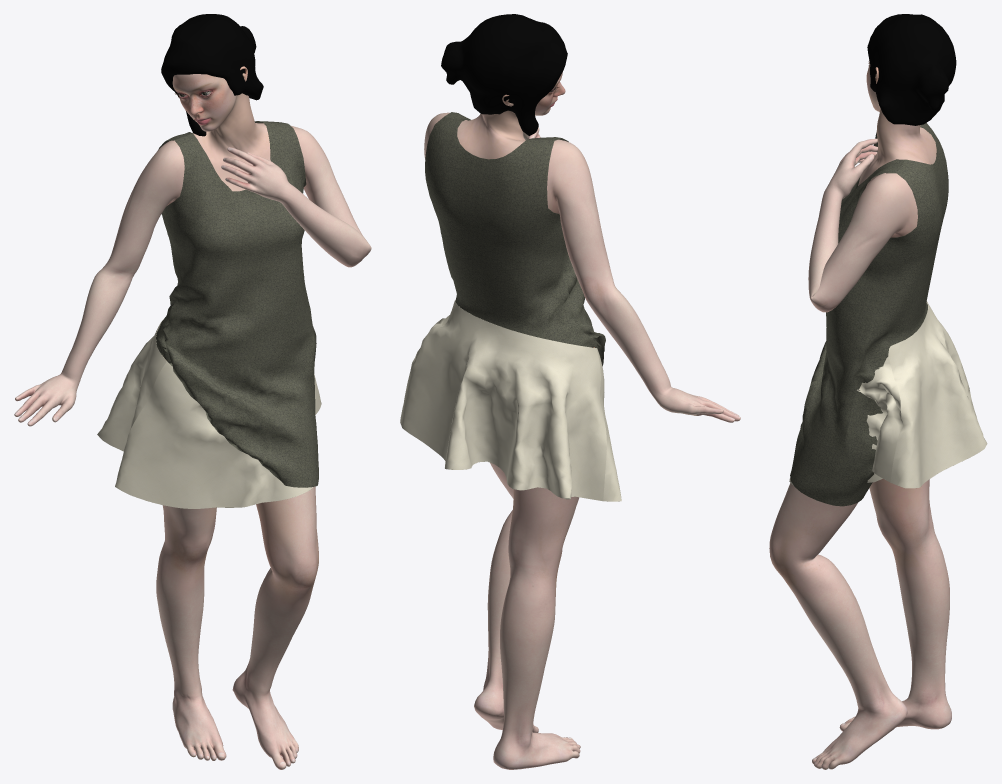
Rendered from Dramatic.obj.
3 views of the same model, side by side, from view 1: azimuth 30°, elevation 25°; view 2: azimuth 150°, elevation 25°; view 3: azimuth 270°, elevation 25° (orthographic). The views are drawn at different scales.
Bounding box in the file's own units: 813 × 1767 × 476.
